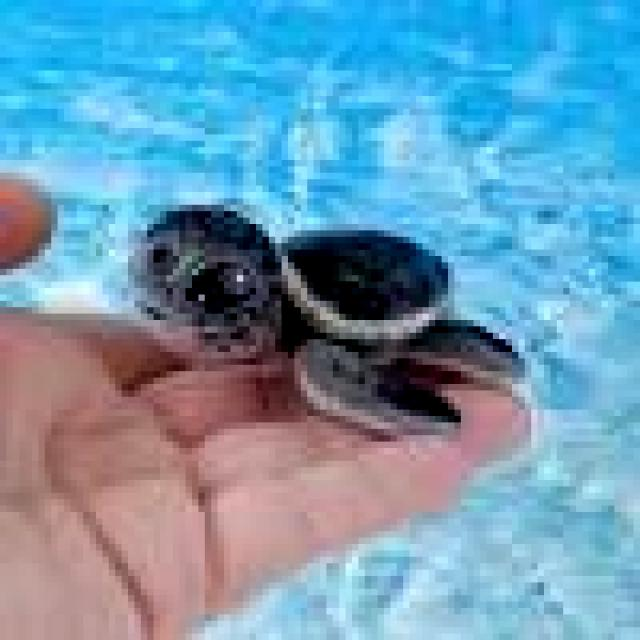Sea turtle: (127, 193, 545, 428)
